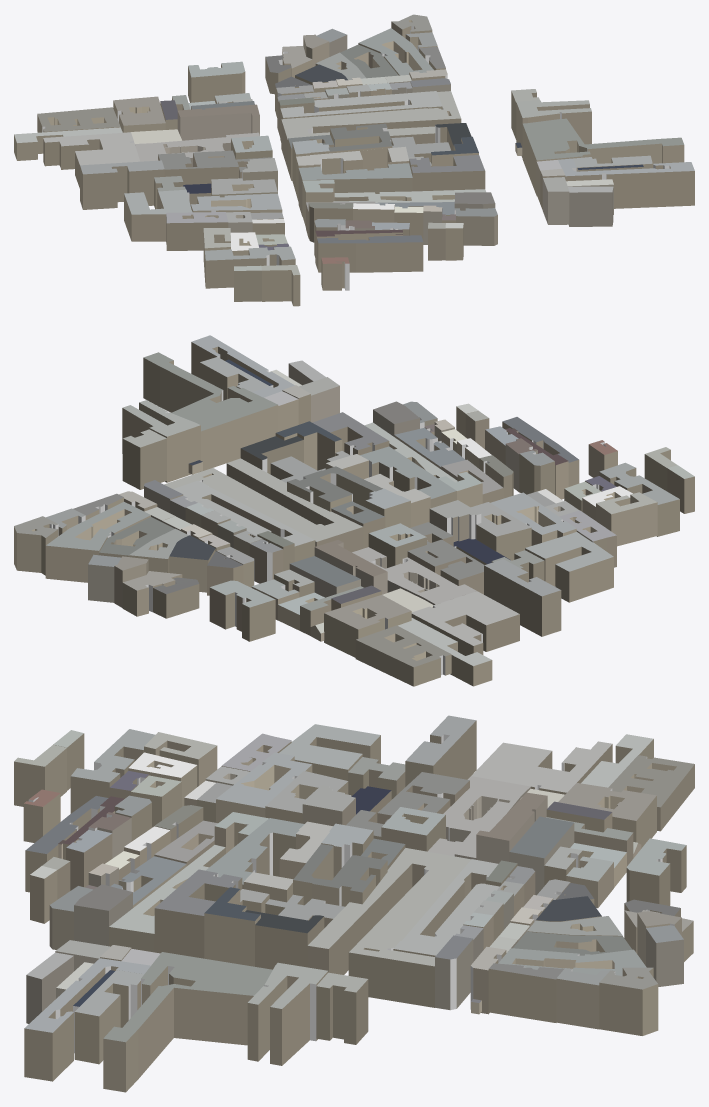
3 views of the same model, one above another, from view 1: azimuth 30°, elevation 25°; view 2: azimuth 150°, elevation 25°; view 3: azimuth 270°, elevation 25° (orthographic). The views are drawn at different scales.
Parts seen in each view (by area): view 1: tuile; view 2: tuile; view 3: tuile.
Part boxes in pixels (x1,y1,x2,y2): tuile: (14, 14, 694, 306); tuile: (14, 335, 694, 686); tuile: (14, 715, 694, 1092).
Bounding box in the file's own units: 308 × 27.57 × 267.
